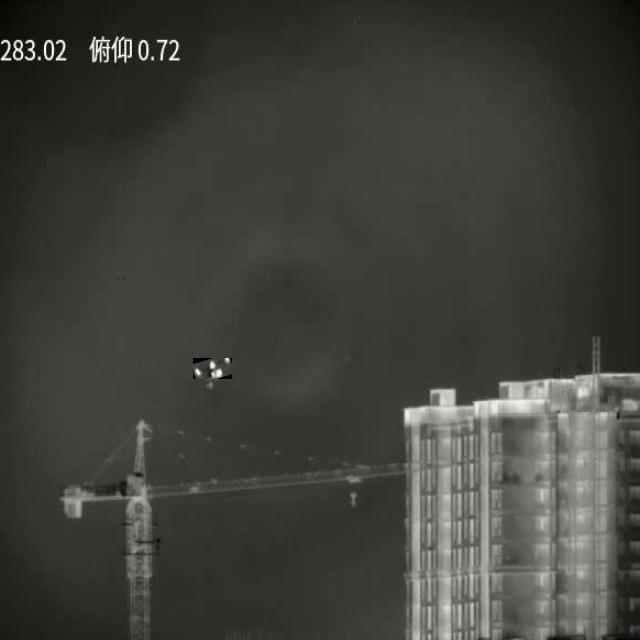drone: (194, 358, 230, 378)
